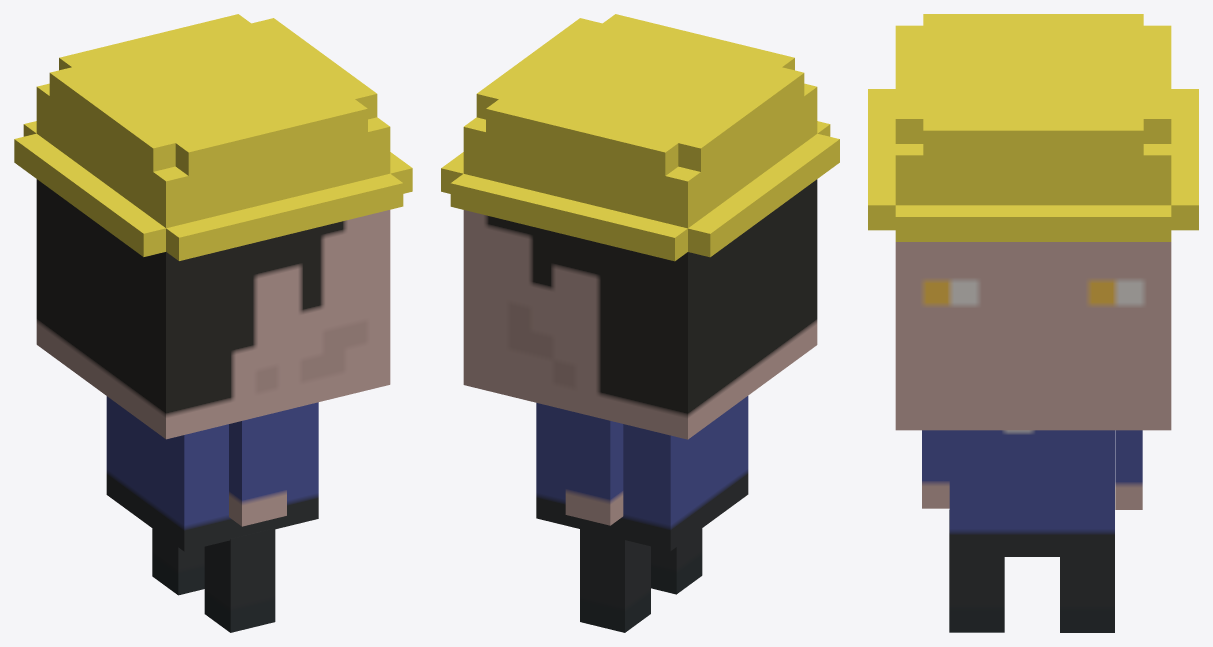
File: char41.fbx
The picture shows the model from 3 angles, left to right: view 1: azimuth 30°, elevation 25°; view 2: azimuth 150°, elevation 25°; view 3: azimuth 270°, elevation 25°; orthographic projection. The views are drawn at different scales.
Parts seen in each view (by area): view 1: Matrix_1, Matrix_2, Matrix_6, Matrix_4, Matrix_5; view 2: Matrix_1, Matrix_2, Matrix_5, Matrix_3, Matrix_6; view 3: Matrix_1, Matrix_2, Matrix_6, Matrix_5, Matrix_3, Matrix_4.
Boxes of the visible parts, x1,y1,x2,y2 form: Matrix_1: (14,14,412,439); Matrix_2: (106,396,318,551); Matrix_6: (204,528,275,632); Matrix_4: (229,410,286,526); Matrix_5: (152,528,204,595); Matrix_1: (441,14,839,439); Matrix_2: (536,396,748,551); Matrix_5: (580,529,650,632); Matrix_3: (565,410,623,525); Matrix_6: (651,528,702,594); Matrix_1: (868,14,1198,430); Matrix_2: (949,430,1114,556); Matrix_6: (949,510,1004,632); Matrix_5: (1060,557,1114,632); Matrix_3: (1115,430,1142,509); Matrix_4: (922,430,949,508).
Bounding box in the file's own units: 12 × 21.99 × 12.
Materials: 1 (1 with a texture image).
